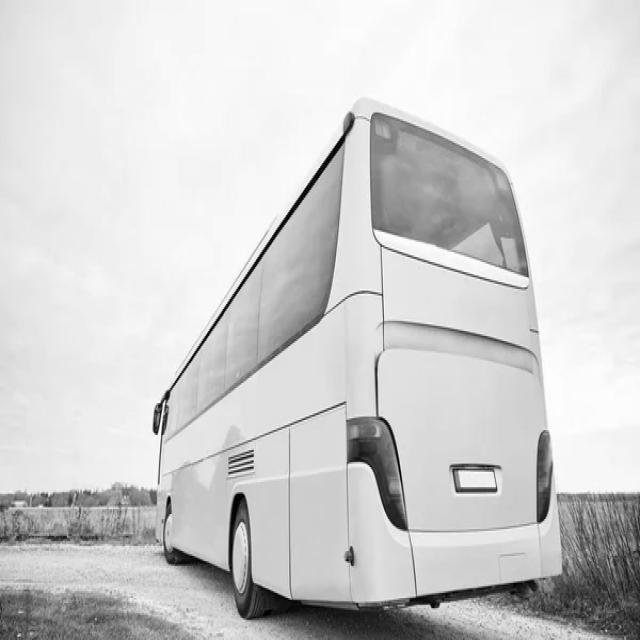Bus: (154, 98, 561, 618)
